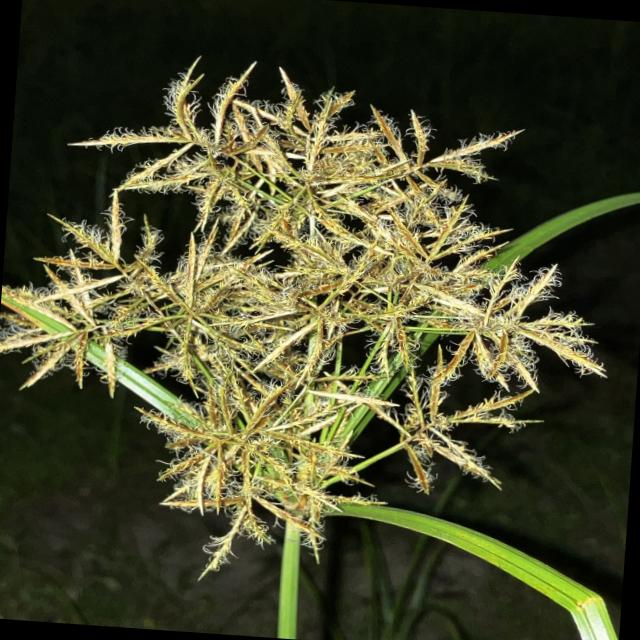cyperus: (0, 36, 634, 612)
